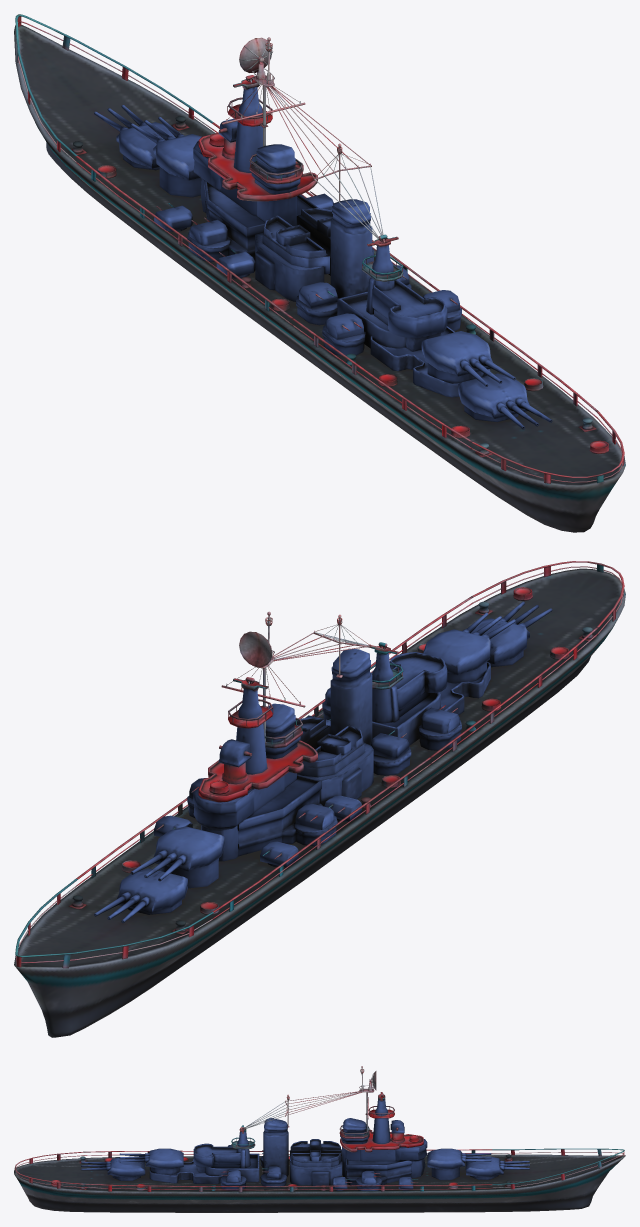
Rendered from Battleship.glb.
3 views of the same model, one above another, from view 1: azimuth 30°, elevation 25°; view 2: azimuth 150°, elevation 25°; view 3: azimuth 270°, elevation 25° (orthographic). The views are drawn at different scales.
Visible parts, largest first — view 1: 2; view 2: 2; view 3: 2.
Boxes of the visible parts, left/top/right/bottom form: 2: left=14, top=14, right=625, bottom=532; 2: left=14, top=561, right=625, bottom=1037; 2: left=14, top=1066, right=625, bottom=1212.
Size of the model in its own units: 5.91 by 10.43 by 41.2.
2 materials, 2 textured.
